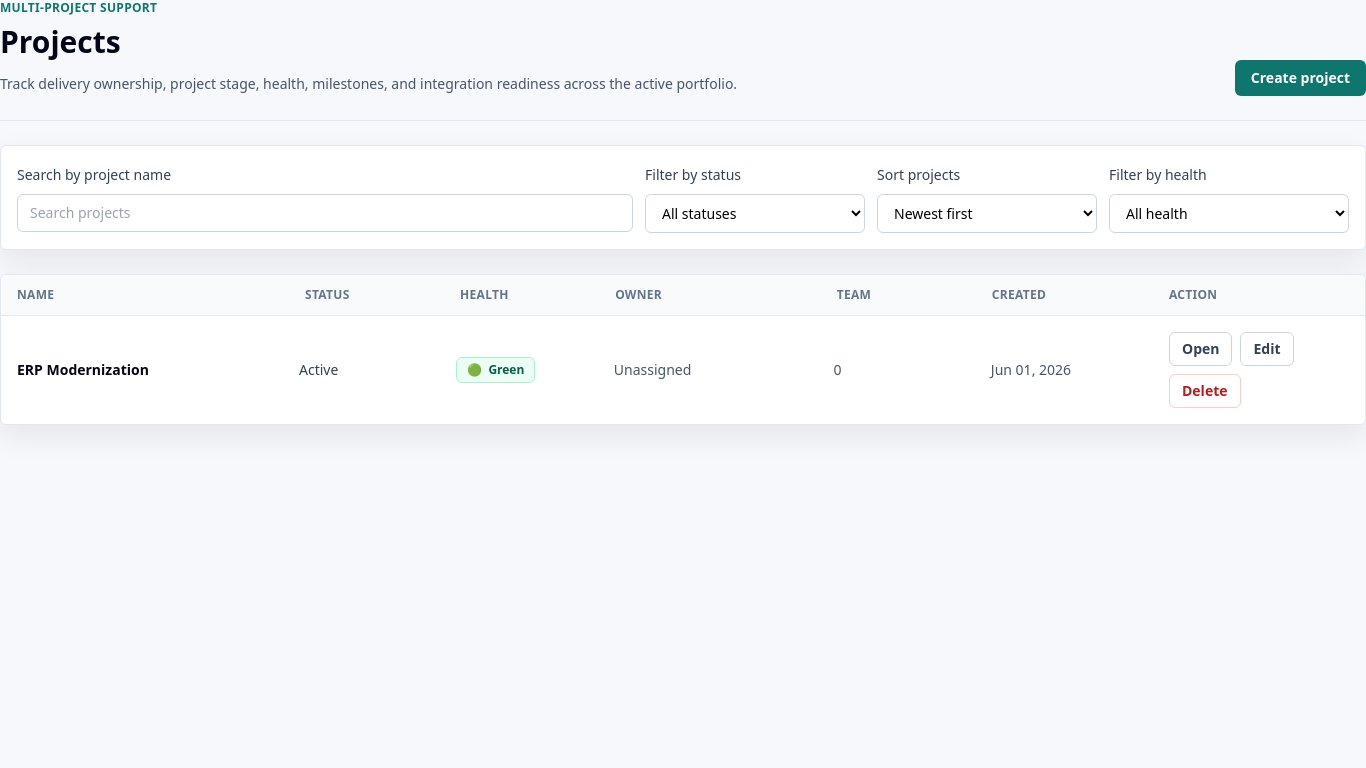
Test case: AppModal usability › keeps project form actions in the sticky footer
Click the button "Create project".
click(1300, 78)  # box x1=1235 y1=60 x2=1365 y2=96
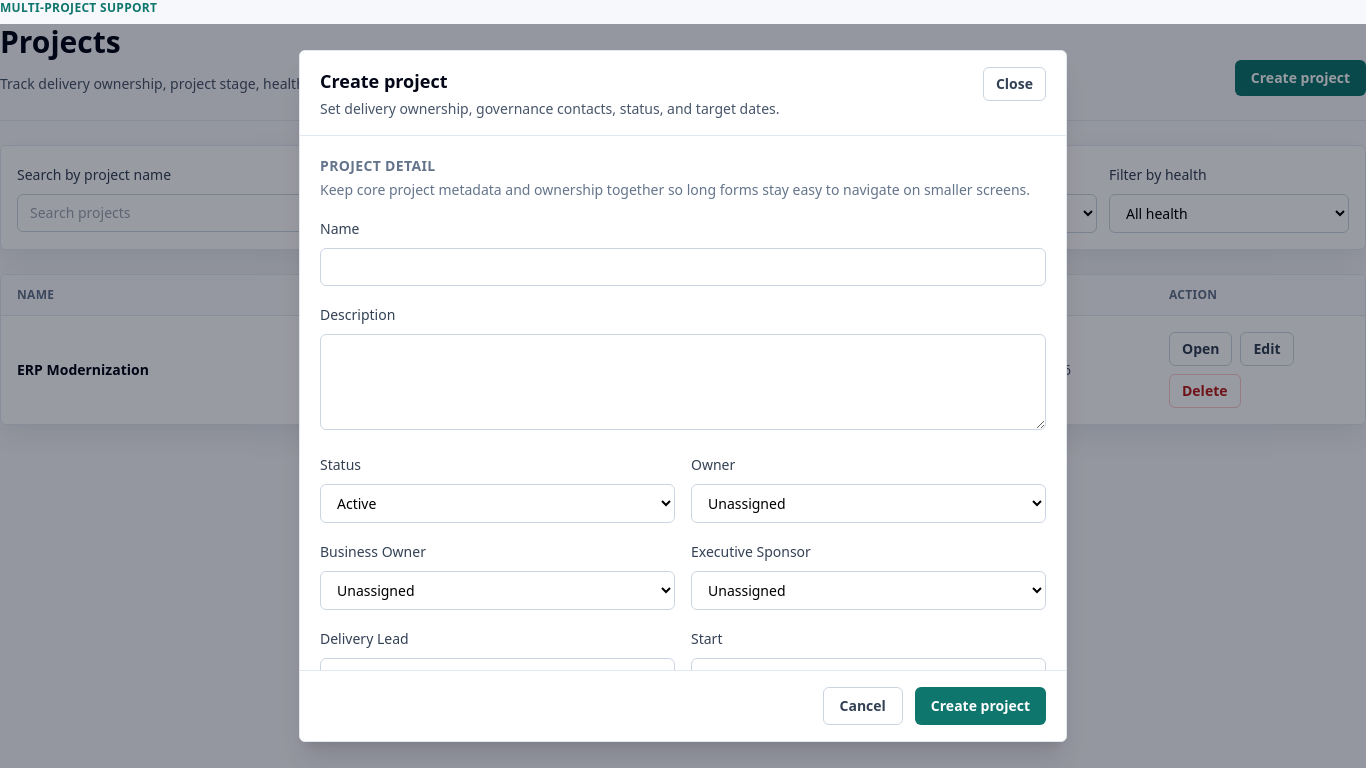
Check: the button "Create project" is shown, box x1=915 y1=687 x2=1046 y2=725
